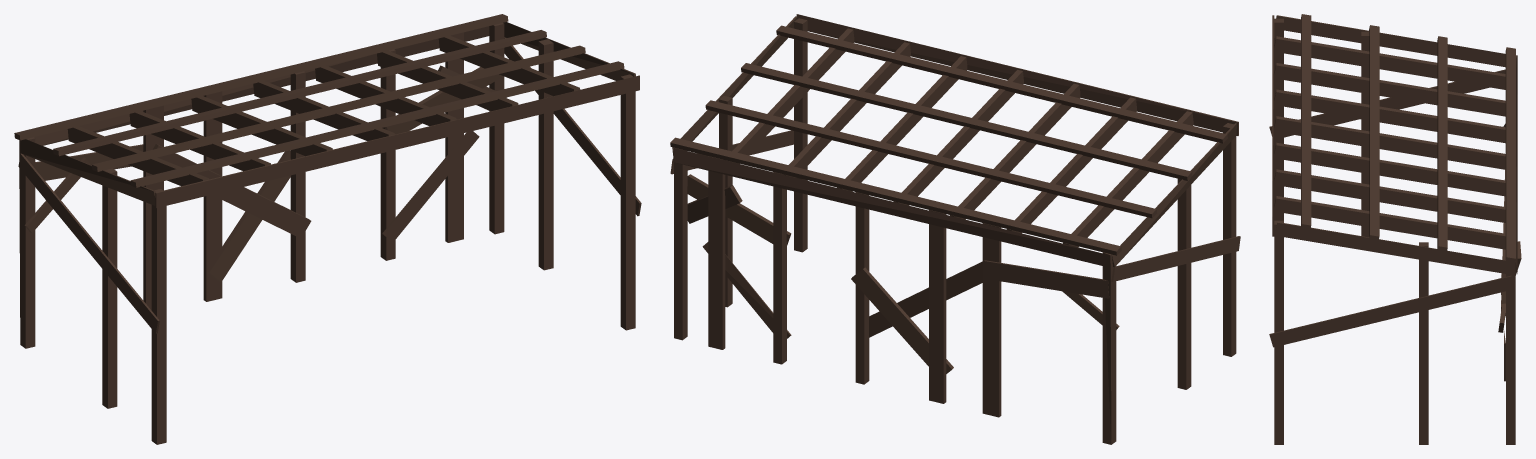
File: swamp-shack.lod2.glb
The picture shows the model from 3 angles, left to right: view 1: azimuth 30°, elevation 25°; view 2: azimuth 150°, elevation 25°; view 3: azimuth 270°, elevation 25°; orthographic projection. The views are drawn at different scales.
Parts seen in each view (by area): view 1: Object_16; view 2: Object_16; view 3: Object_16.
Boxes of the visible parts, x1,y1,x2,y2 form: Object_16: [14, 14, 641, 444]; Object_16: [670, 14, 1240, 444]; Object_16: [1269, 14, 1521, 444].
Size of the model in its own units: 7.76 by 3.84 by 3.94.
